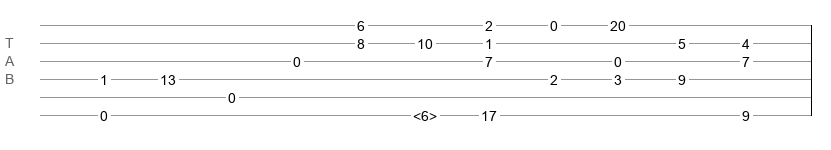0: (100, 108, 108, 118), (228, 90, 236, 100), (293, 54, 301, 64), (550, 18, 558, 28), (614, 54, 622, 64)
1: (100, 72, 108, 82), (485, 36, 493, 46)
10: (417, 36, 433, 46)
13: (160, 72, 176, 82)
17: (481, 108, 497, 118)
2: (485, 18, 493, 28), (550, 72, 558, 82)
20: (610, 18, 626, 28)
3: (614, 72, 622, 82)
4: (742, 36, 750, 46)
5: (678, 36, 686, 46)
6: (357, 18, 365, 28)
7: (485, 54, 493, 64), (742, 54, 750, 64)
8: (357, 36, 365, 46)
9: (678, 72, 686, 82), (742, 108, 750, 118)
harmonic: (413, 108, 437, 118)
